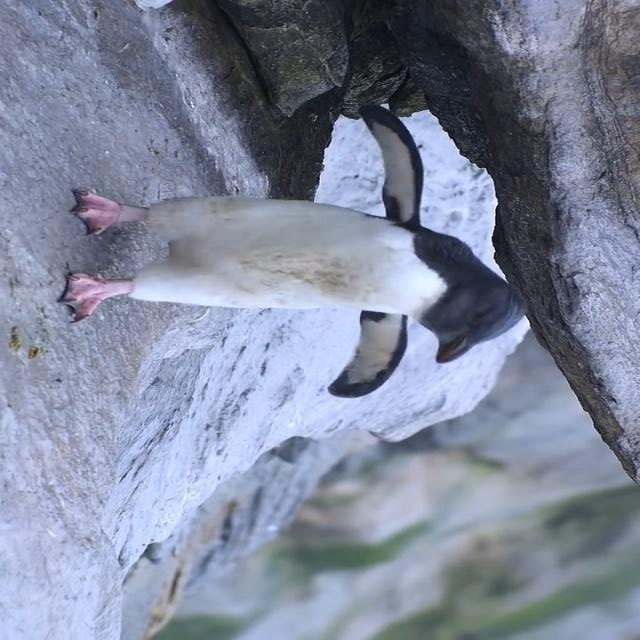penguin: (58, 104, 526, 400)
